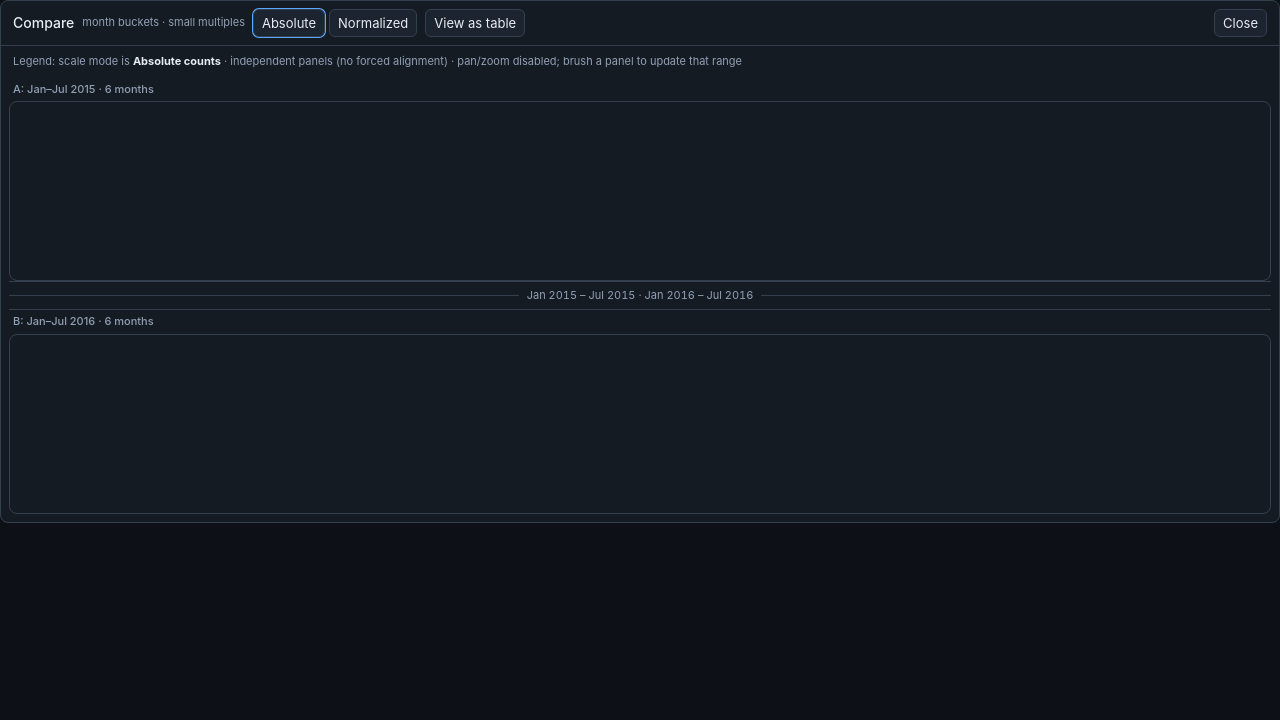
Scenario: CompareView › View as table shows accessible compare table
The image size is (1280, 720).
Step 1. Click the button with test id "compare-table-toggle" → (475, 23), box [425,9,525,37]
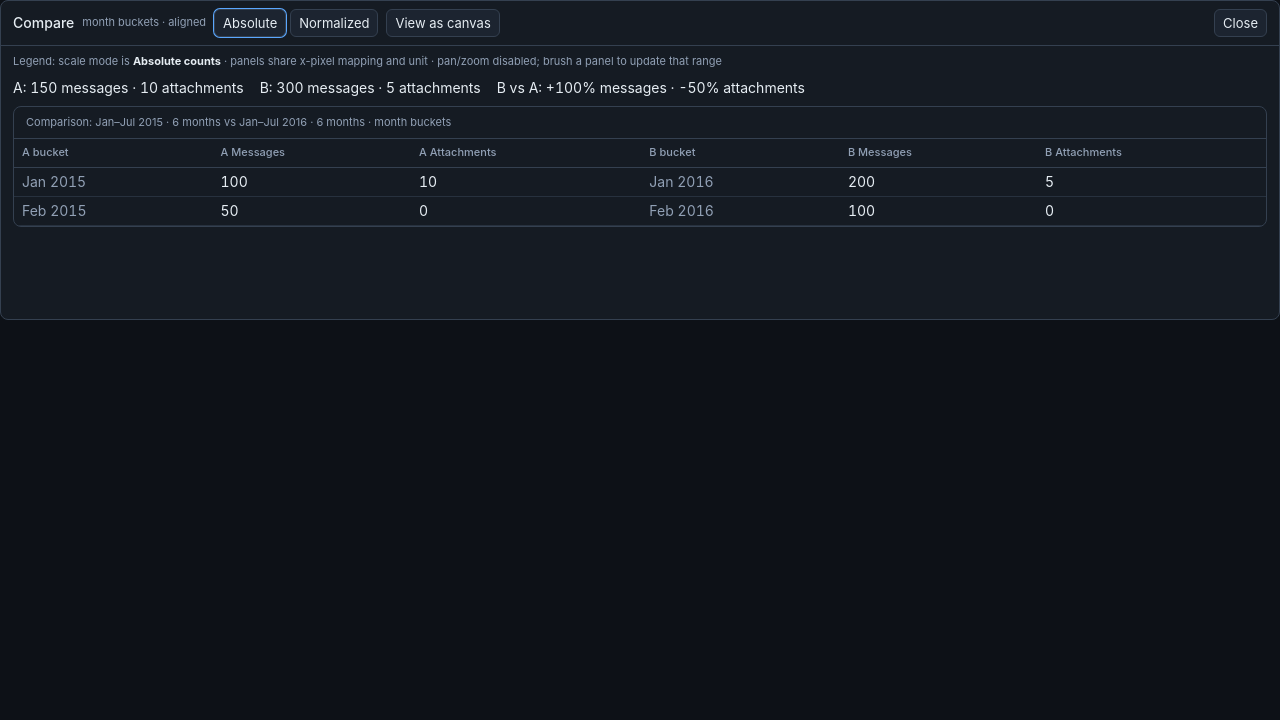
Expected: the element with test id "compare-table" is shown, [13,106,1267,227]
Expected: the column heading "A bucket" is shown, [14,139,212,168]
